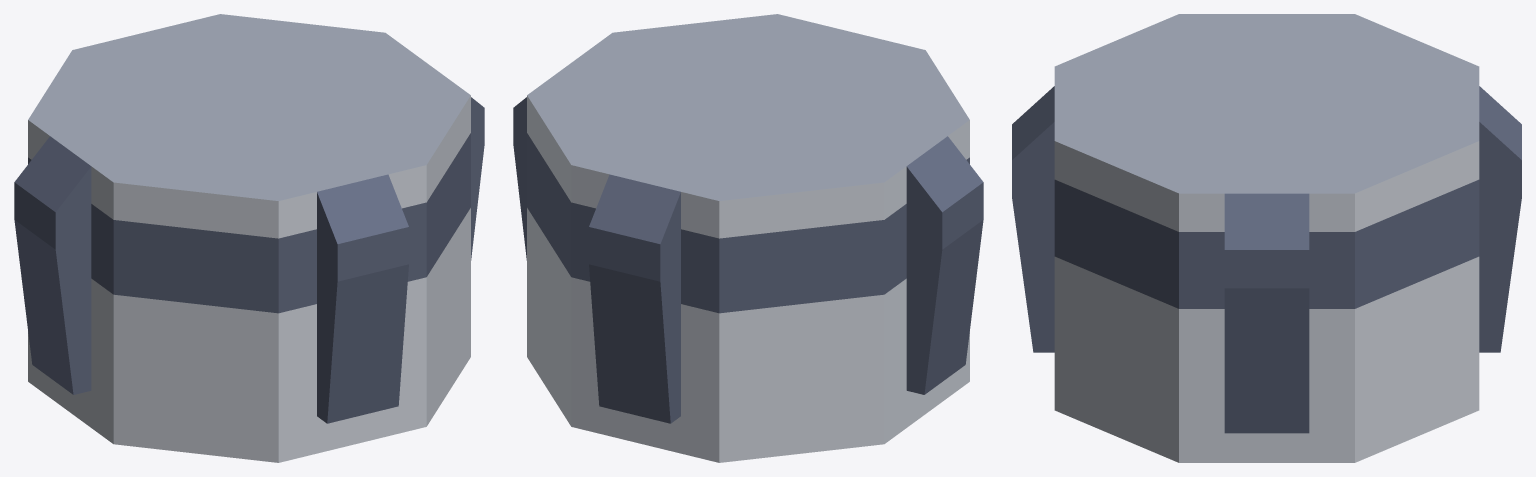
File: rocket_finsA.glb
The picture shows the model from 3 angles, left to right: view 1: azimuth 30°, elevation 25°; view 2: azimuth 150°, elevation 25°; view 3: azimuth 270°, elevation 25°; orthographic projection. The views are drawn at different scales.
Visible parts, largest first — view 1: rocket_finsA; view 2: rocket_finsA; view 3: rocket_finsA.
Boxes of the visible parts, x1,y1,x2,y2 form: rocket_finsA: (14,14,484,462); rocket_finsA: (513,14,983,462); rocket_finsA: (1012,14,1521,462).
Bounding box in the file's own units: 1.2 × 0.7 × 1.2.
